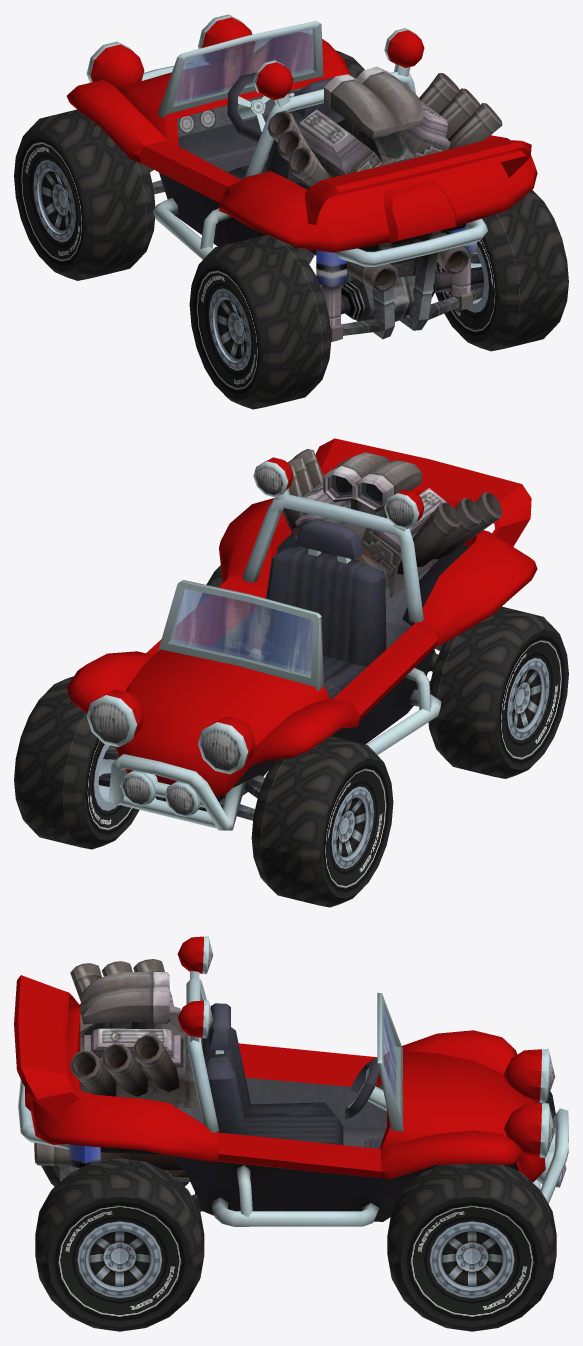
The model's file is car.glb.
The picture shows the model from 3 angles, top to bottom: view 1: azimuth 30°, elevation 25°; view 2: azimuth 150°, elevation 25°; view 3: azimuth 270°, elevation 25°; orthographic projection.
Visible parts, largest first — view 1: mesh_39_130.nr, mesh_38_129.nr, wheel-bl, wheel-fl, wheel-br, mesh_35_123.nr, mesh_48_151.nr; view 2: mesh_38_129.nr, mesh_39_130.nr, wheel-fl, wheel-bl, wheel-fr, mesh_48_151.nr, mesh_35_123.nr; view 3: mesh_38_129.nr, mesh_39_130.nr, wheel-br, wheel-fr, mesh_35_123.nr, mesh_48_151.nr.
Part boxes in pixels (left/top/right/bottom): mesh_39_130.nr: left=66, top=17, right=537, bottom=252; mesh_38_129.nr: left=86, top=14, right=502, bottom=291; wheel-bl: left=189, top=235, right=331, bottom=409; wheel-fl: left=14, top=109, right=155, bottom=280; wheel-br: left=435, top=190, right=568, bottom=351; mesh_35_123.nr: left=148, top=167, right=484, bottom=341; mesh_48_151.nr: left=174, top=28, right=314, bottom=104; mesh_38_129.nr: left=86, top=449, right=502, bottom=830; mesh_39_130.nr: left=66, top=438, right=537, bottom=797; wheel-fl: left=251, top=736, right=393, bottom=907; wheel-bl: left=428, top=606, right=568, bottom=778; wheel-fr: left=14, top=676, right=139, bottom=849; mesh_48_151.nr: left=170, top=589, right=312, bottom=675; mesh_35_123.nr: left=98, top=644, right=442, bottom=820; mesh_38_129.nr: left=18, top=936, right=568, bottom=1226; mesh_39_130.nr: left=14, top=936, right=545, bottom=1182; wheel-br: left=35, top=1158, right=204, bottom=1331; wheel-fr: left=387, top=1163, right=556, bottom=1331; mesh_35_123.nr: left=59, top=1144, right=213, bottom=1215; mesh_48_151.nr: left=383, top=1005, right=396, bottom=1103.
Bounding box in the file's own units: 2.1 × 1.91 × 3.28.
Materials: 8 (7 with a texture image).
